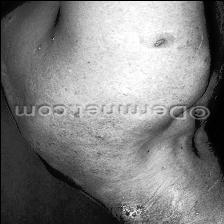Toxin: (148, 29, 174, 49)
